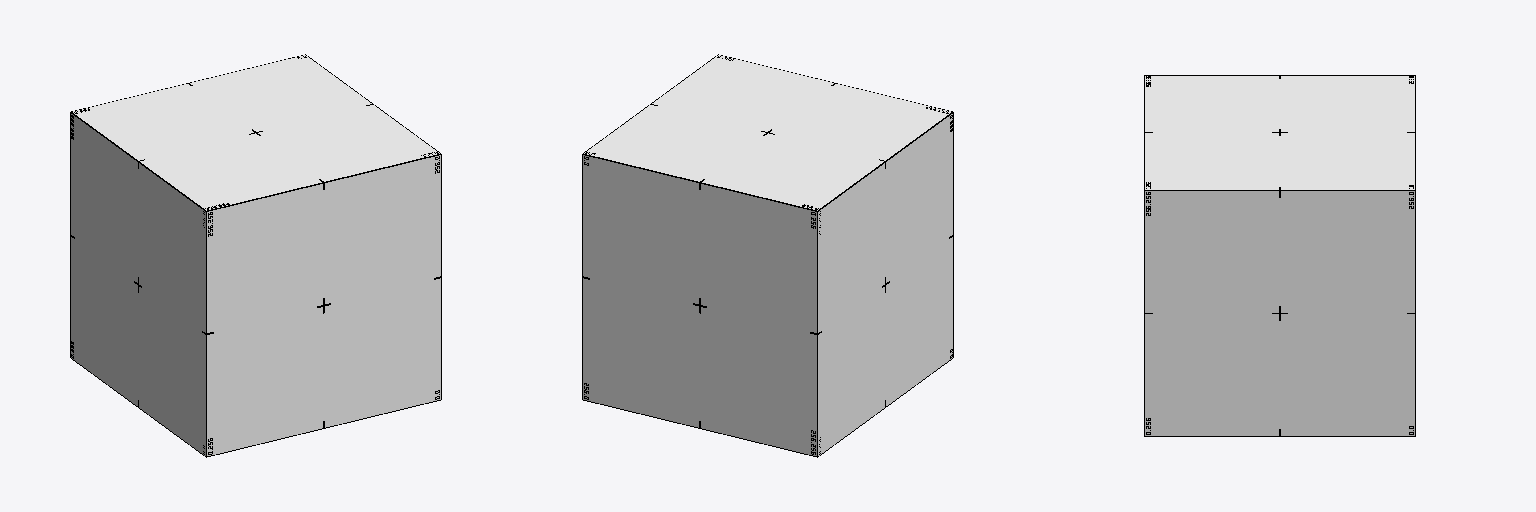
The picture shows the model from 3 angles: view 1: azimuth 30°, elevation 25°; view 2: azimuth 150°, elevation 25°; view 3: azimuth 270°, elevation 25°; orthographic projection.
Visible parts, largest first — view 1: Cube; view 2: Cube; view 3: Cube.
Boxes of the visible parts, box(x1,y1,x2,y2) form: Cube: box(70, 54, 441, 457); Cube: box(582, 54, 953, 457); Cube: box(1144, 75, 1415, 436).
Size of the model in its own units: 2 by 2 by 2.
1 materials, 1 textured.